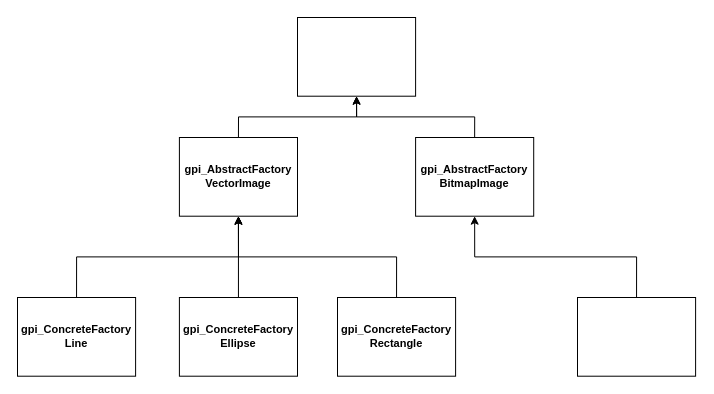
Some shapes in this 714 by 394 pixel diagram are drawn without their labels. Each missing label, with the centre of its shape:
"gpi_AbstractFactory Object" goes at point (356, 56).
"gpi_ConcreteFactory Text" goes at point (636, 336).
